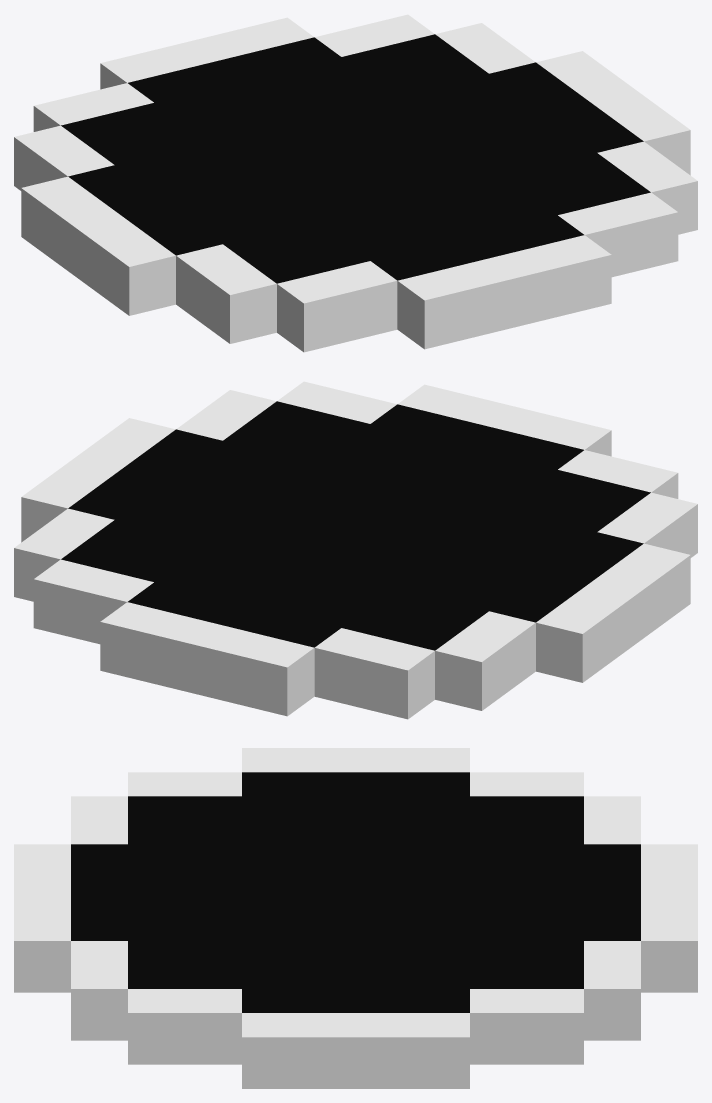
File: CokeTallerkenTom.obj
3 renders of one model, top to bottom at view 1: azimuth 30°, elevation 25°; view 2: azimuth 150°, elevation 25°; view 3: azimuth 270°, elevation 25°, orthographic. The views are drawn at different scales.
Size of the model in its own units: 1.2 by 0.1 by 1.2.
